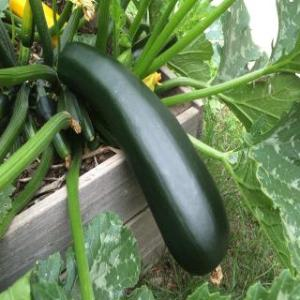zucchini: (59, 46, 235, 278)
